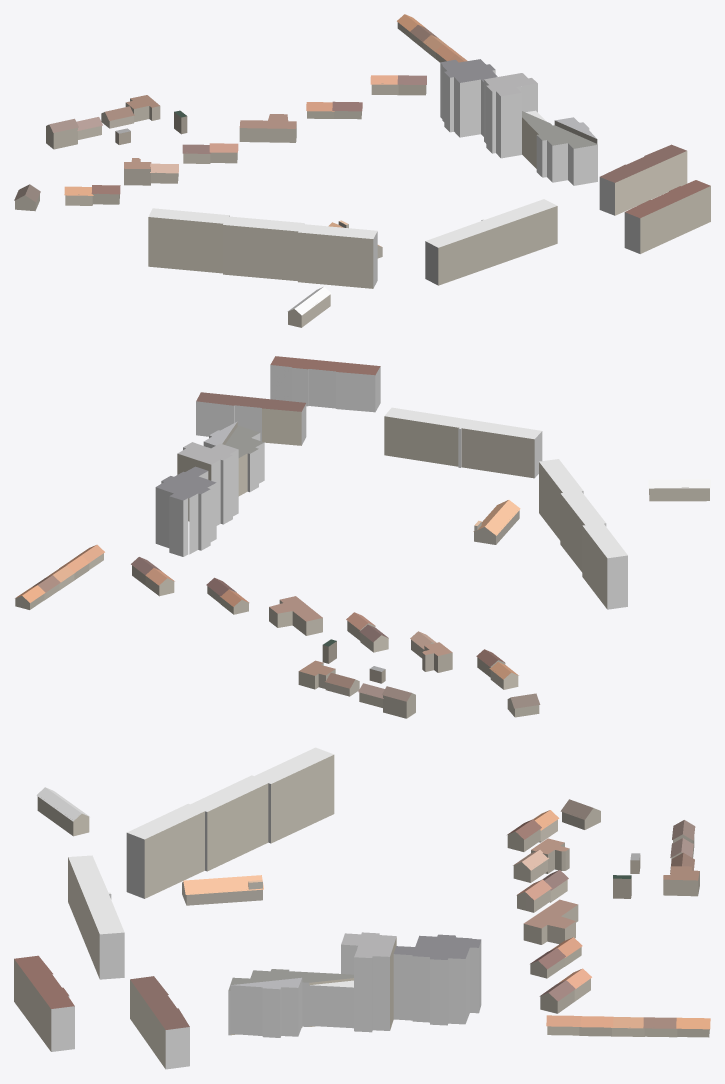
3 renders of one model, top to bottom at view 1: azimuth 30°, elevation 25°; view 2: azimuth 150°, elevation 25°; view 3: azimuth 270°, elevation 25°, orthographic. The views are drawn at different scales.
Visible parts, largest first — view 1: tuile; view 2: tuile; view 3: tuile.
Boxes of the visible parts, x1,y1,x2,y2 form: tuile: [14, 14, 710, 327]; tuile: [15, 356, 710, 718]; tuile: [14, 747, 710, 1069].
Size of the model in its own units: 236 by 40.44 by 238.
